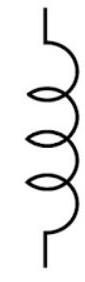inductor: (22, 24, 82, 250)
